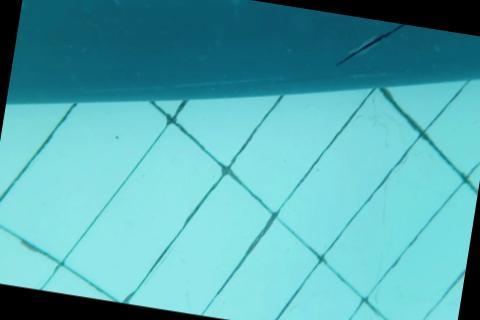keretakan: (337, 14, 430, 77)
